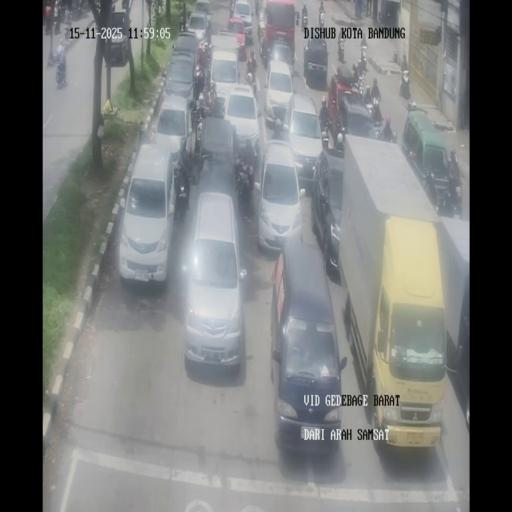car: (270, 239, 342, 452), (184, 191, 248, 370), (119, 143, 179, 284), (314, 150, 344, 276), (284, 94, 322, 187), (194, 114, 237, 188), (337, 91, 385, 146), (263, 60, 296, 130), (208, 45, 242, 108), (163, 51, 198, 110), (104, 10, 130, 67), (303, 37, 328, 87), (226, 16, 249, 56), (186, 12, 210, 44)
motorcycle: (235, 162, 254, 218), (436, 174, 460, 215), (173, 174, 189, 221), (192, 62, 206, 102), (191, 98, 203, 133), (376, 123, 397, 143), (258, 27, 268, 66), (399, 68, 411, 100), (245, 67, 257, 98), (203, 55, 212, 91), (271, 117, 285, 140), (354, 73, 366, 98), (356, 51, 367, 78), (290, 50, 300, 79), (56, 60, 66, 88), (320, 123, 330, 150), (334, 132, 345, 155), (63, 8, 71, 39), (371, 77, 381, 101), (44, 8, 53, 34), (179, 11, 189, 34), (53, 12, 61, 34), (258, 4, 266, 26), (338, 38, 345, 63), (241, 0, 250, 17), (365, 101, 374, 116), (58, 2, 64, 23), (319, 8, 325, 28), (302, 9, 308, 27), (229, 0, 235, 18), (402, 54, 408, 72), (94, 0, 100, 15), (77, 0, 83, 14), (295, 10, 300, 24), (121, 0, 127, 11), (378, 10, 382, 24)
truck: (337, 140, 461, 448), (446, 267, 470, 437), (262, 0, 296, 65)
